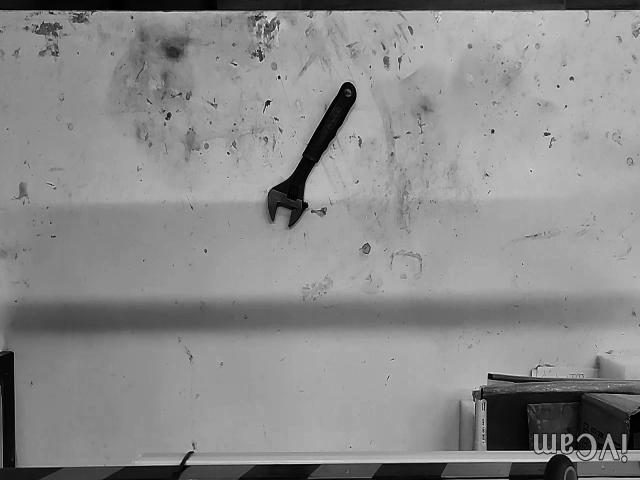Adjustable spanner: (268, 82, 356, 228)
